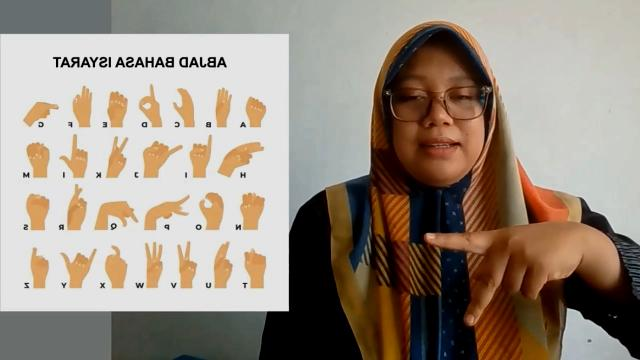P: (423, 213, 582, 329)
